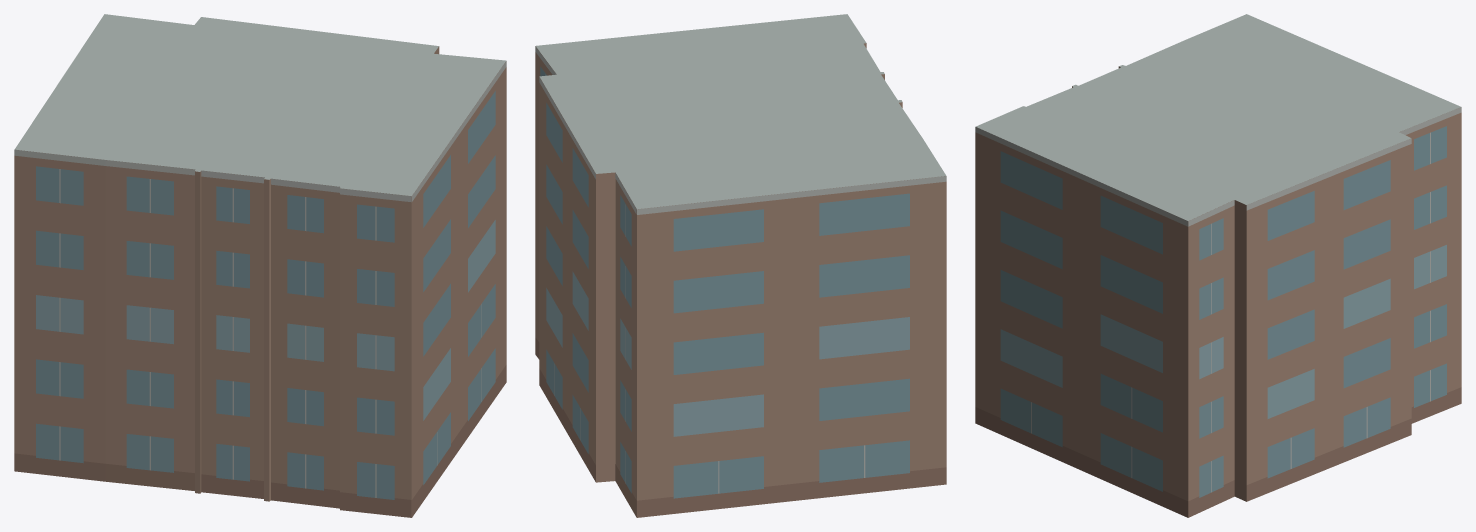
File: survey-upis-32885801.glb
The picture shows the model from 3 angles, left to right: view 1: azimuth 30°, elevation 25°; view 2: azimuth 150°, elevation 25°; view 3: azimuth 270°, elevation 25°; orthographic projection. The views are drawn at different scales.
Visible parts, largest first — view 1: survey-upis-32885801.tmp; view 2: survey-upis-32885801.tmp; view 3: survey-upis-32885801.tmp.
Boxes of the visible parts, box(x1,y1,x2,y2) form: survey-upis-32885801.tmp: box(14, 14, 506, 517); survey-upis-32885801.tmp: box(535, 14, 946, 517); survey-upis-32885801.tmp: box(975, 14, 1461, 517).
Size of the model in its own units: 19.32 by 12.9 by 19.16.
